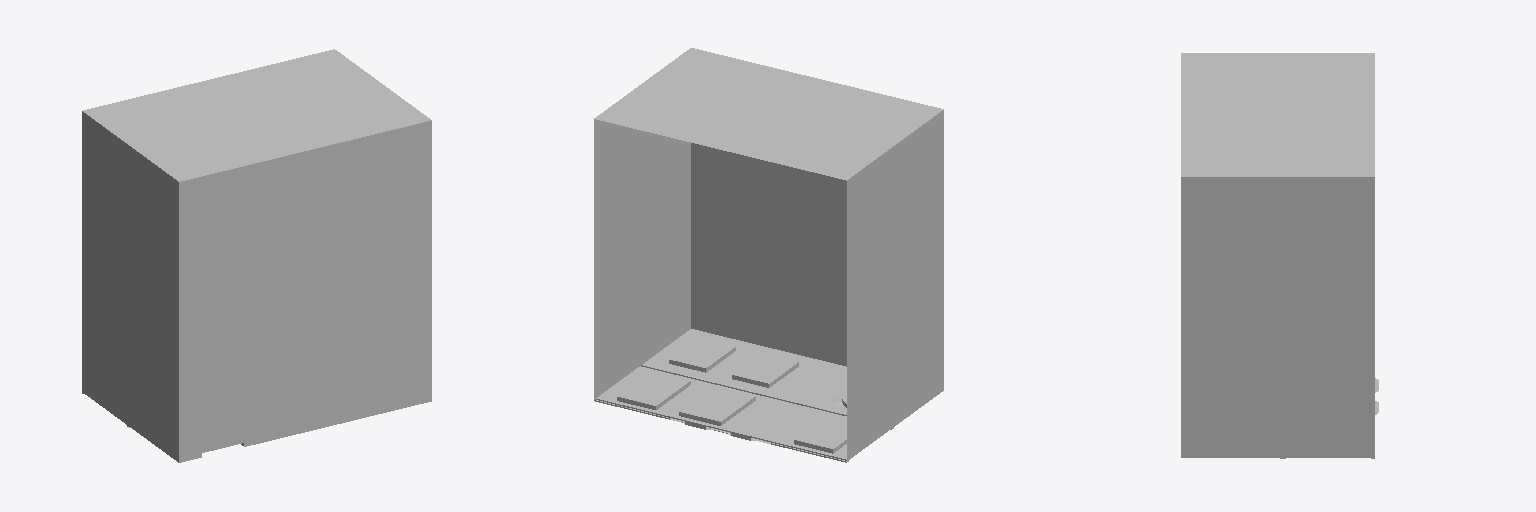
The model's file is Dom Estartki jedna druga.obj.
The picture shows the model from 3 angles: view 1: azimuth 30°, elevation 25°; view 2: azimuth 150°, elevation 25°; view 3: azimuth 270°, elevation 25°; orthographic projection.
Visible parts, largest first — view 1: Cube_Cube.001; view 2: Cube_Cube.001; view 3: Cube_Cube.001.
Boxes of the visible parts, box(x1,y1,x2,y2) form: Cube_Cube.001: box(82, 49, 431, 462); Cube_Cube.001: box(594, 48, 943, 462); Cube_Cube.001: box(1181, 53, 1378, 458).
Bounding box in the file's own units: 0.0344 × 0.0367 × 0.0234.